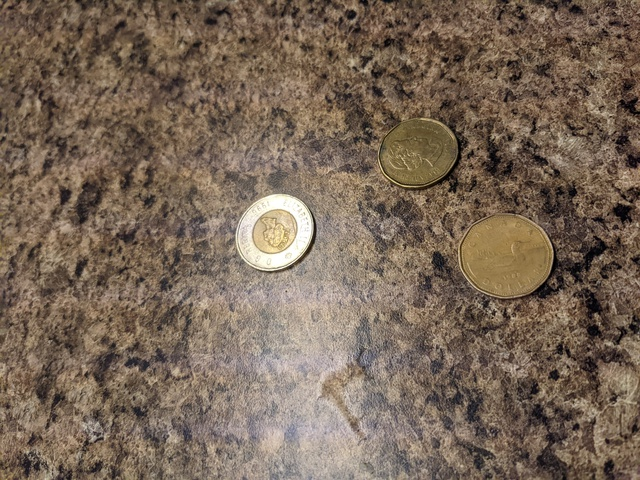loonie: (445, 205, 562, 299), (370, 110, 466, 197)
twonie: (229, 189, 329, 274)
